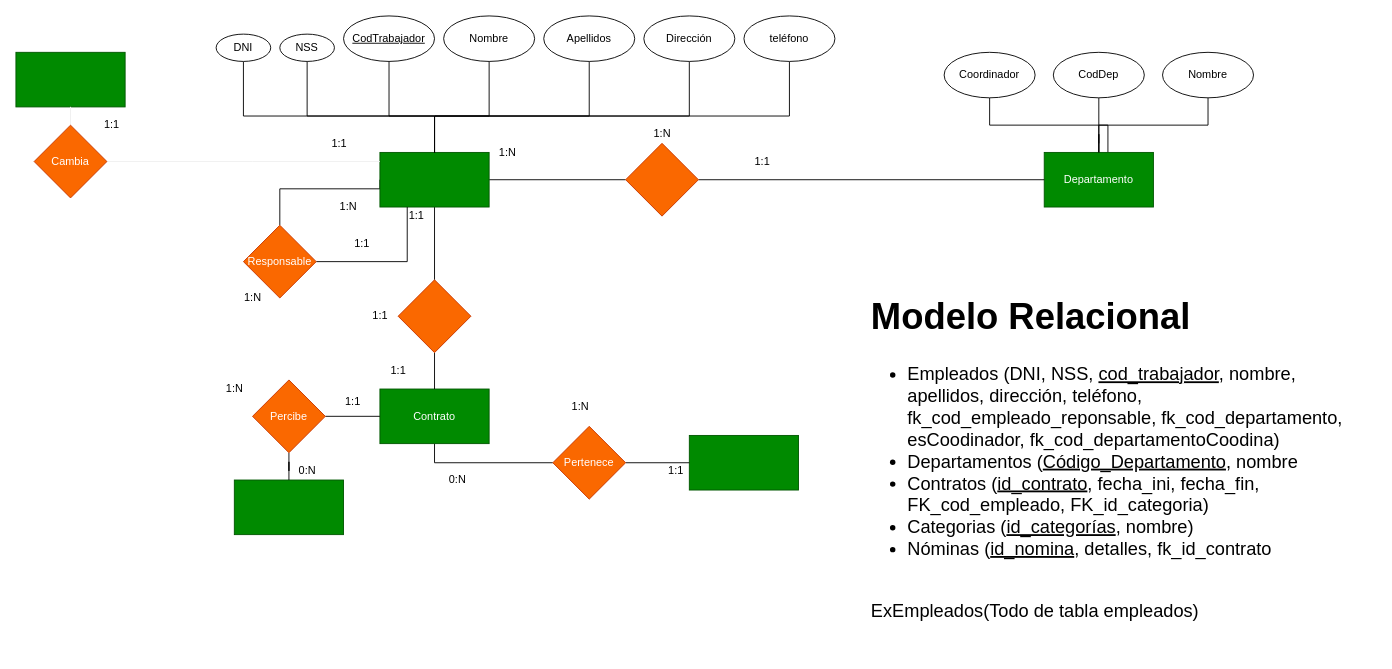
Image size: 1392x669. Some labels were removed from this diagram. The centre of each missing label's shape, as x and y in pixels:
Categoría: point 743,462
Emplead@: point 434,179
ExEmpleados: point 70,79
firma: point 434,316
Nómina: point 288,507
trabaja: point 661,179
